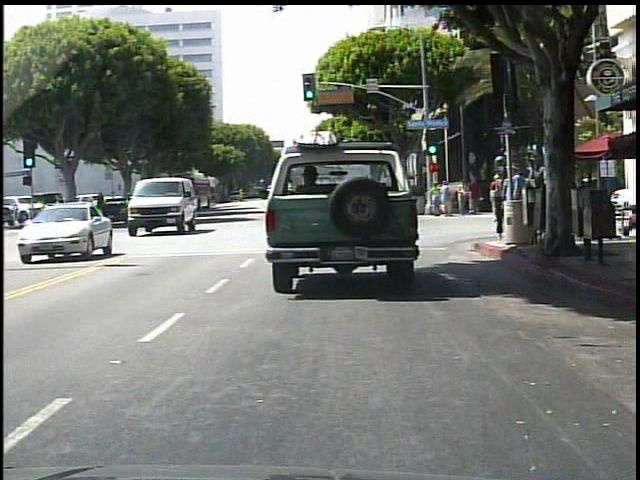person: (509, 167, 527, 237), (495, 174, 509, 239), (522, 175, 539, 228), (489, 171, 506, 223), (537, 174, 551, 219), (468, 172, 481, 213), (441, 180, 453, 217), (458, 178, 469, 213), (431, 183, 442, 215)
